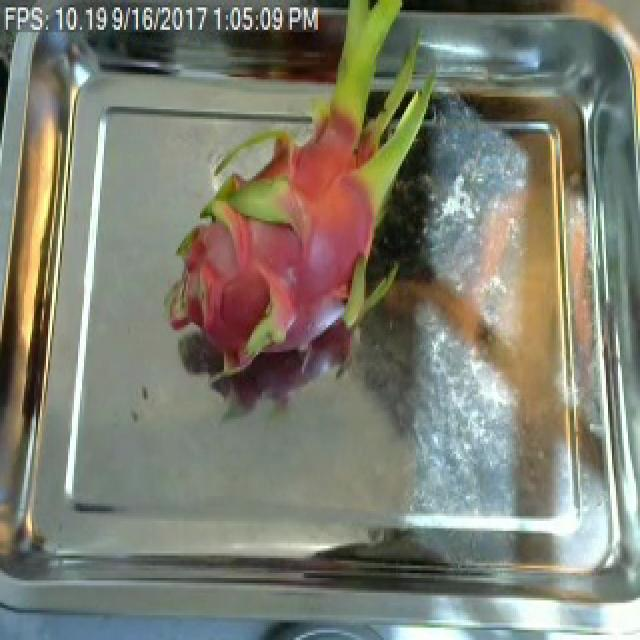fruit: (148, 5, 458, 389)
